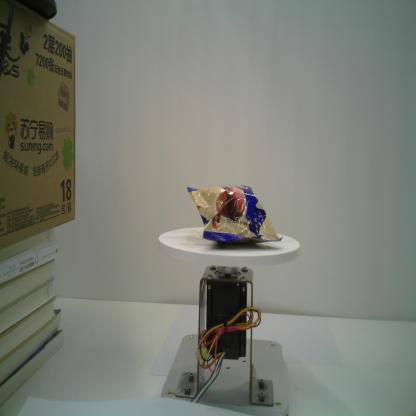Dessert: (185, 182, 284, 251)
